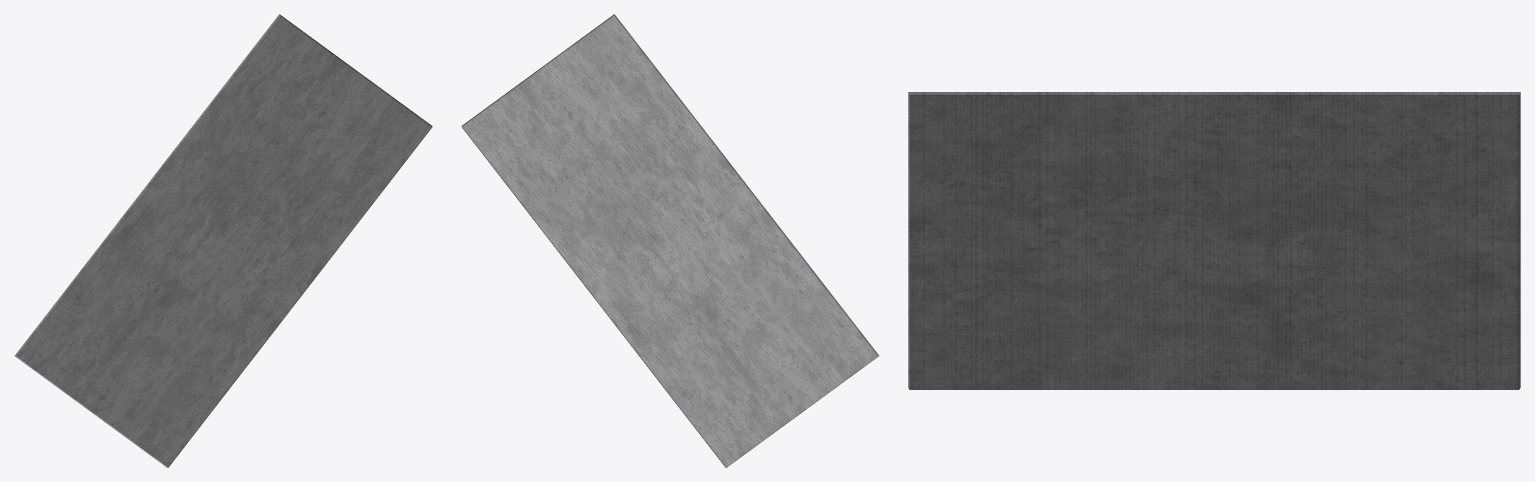
File: SM_Ceiling_06.fbx
3 renders of one model, left to right at view 1: azimuth 30°, elevation 25°; view 2: azimuth 150°, elevation 25°; view 3: azimuth 270°, elevation 25°, orthographic. The views are drawn at different scales.
Parts seen in each view (by area): view 1: SM_Ceiling_06; view 2: SM_Ceiling_06; view 3: SM_Ceiling_06.
Part boxes in pixels (x1,y1,x2,y2): SM_Ceiling_06: (14, 14, 432, 467); SM_Ceiling_06: (461, 14, 878, 467); SM_Ceiling_06: (908, 92, 1520, 389).
Bounding box in the file's own units: 400 × 400 × 400.
